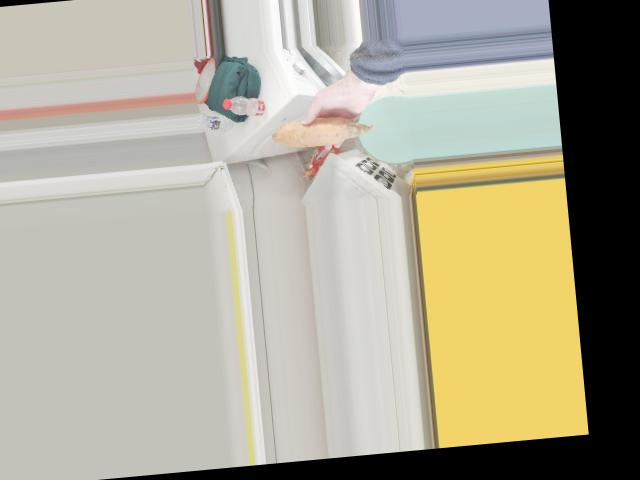sweet_potato: (284, 116, 360, 144)
